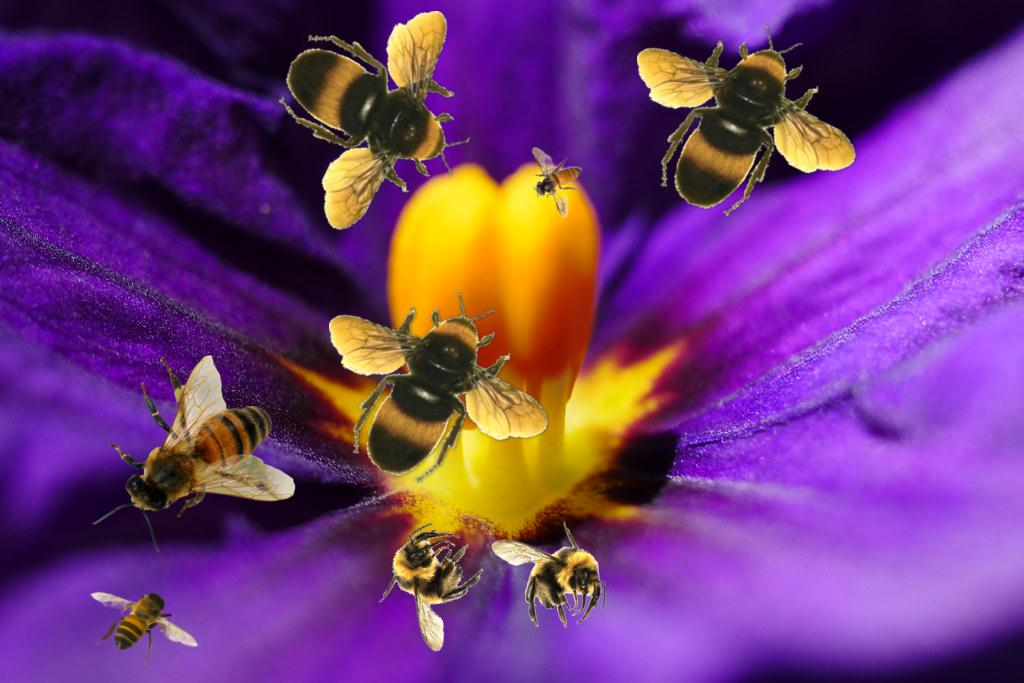Bee: (637, 25, 857, 216), (279, 11, 470, 231), (329, 292, 549, 483), (92, 355, 296, 554), (356, 510, 509, 665), (491, 521, 606, 628), (89, 577, 200, 671), (531, 146, 583, 219)
